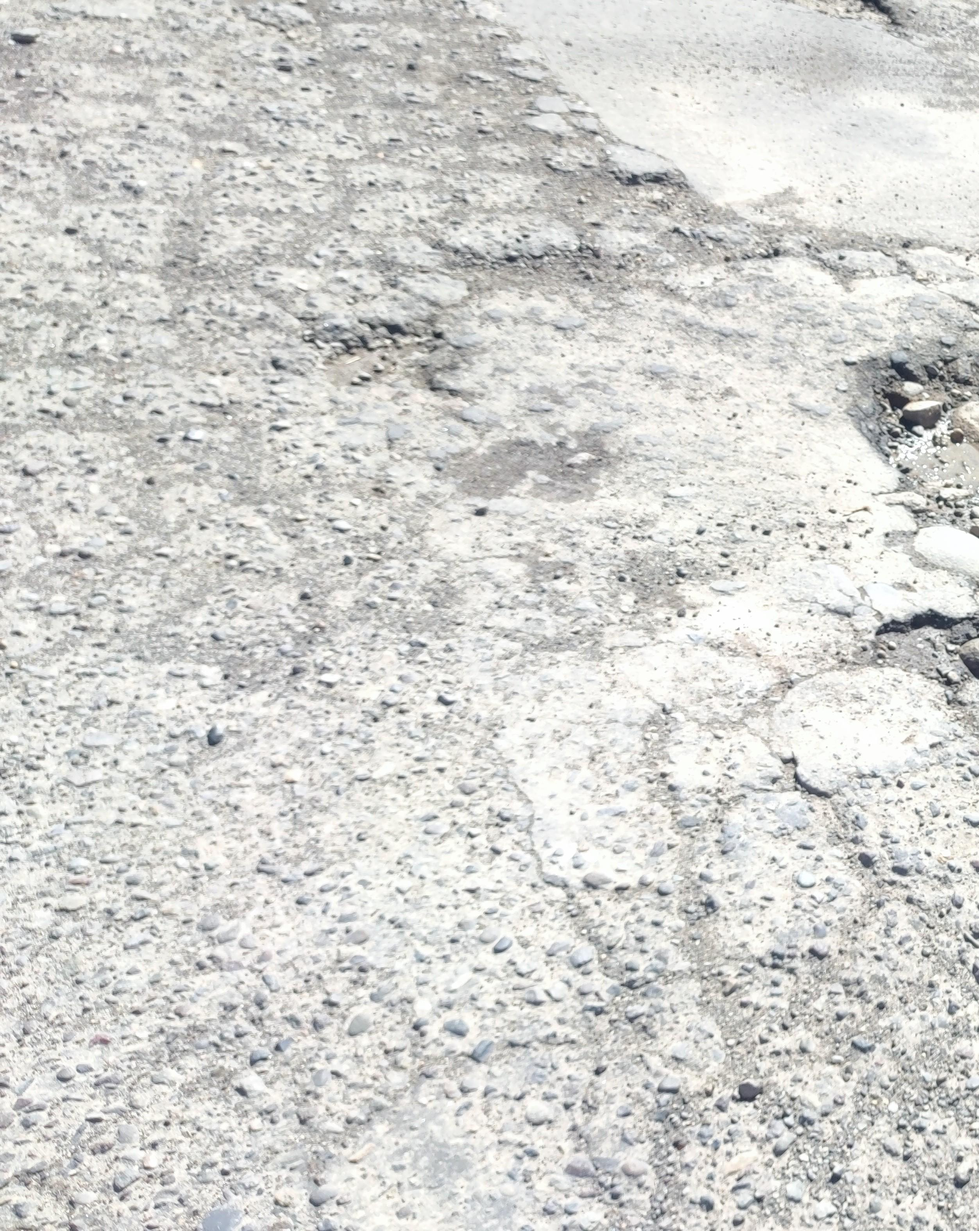BACHE: (875, 358, 979, 540), (877, 610, 979, 703)
PIEL DE COCODRILO: (0, 698, 979, 1231), (0, 0, 760, 491)
